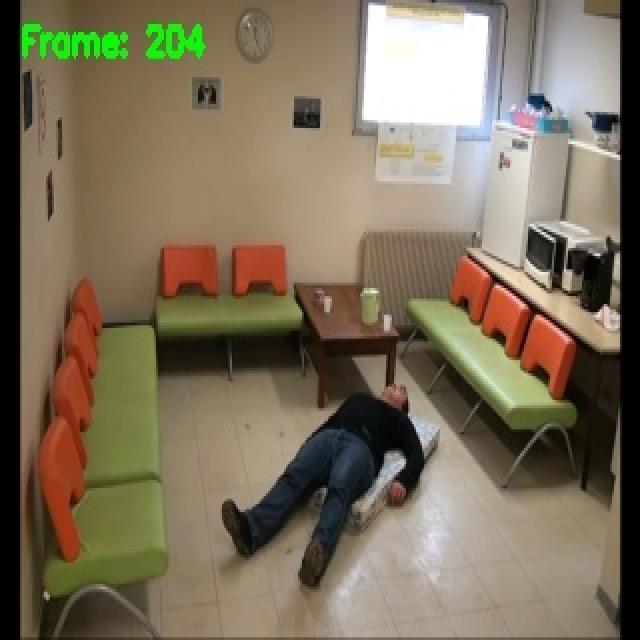fall: (224, 394, 423, 586)
